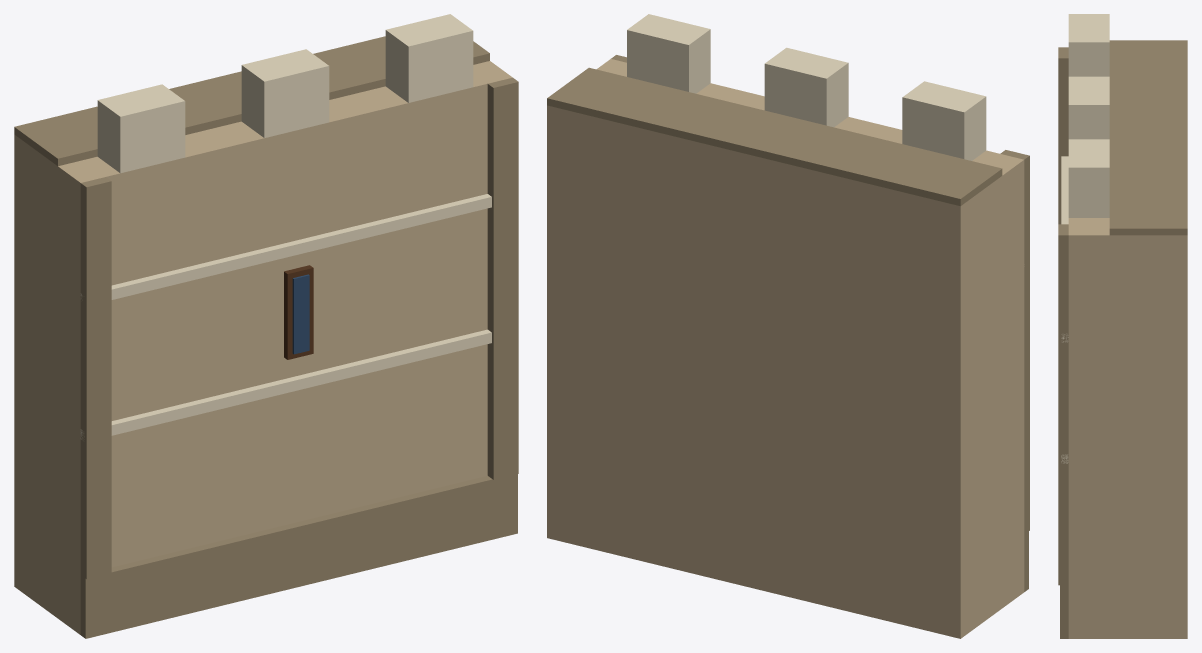
The model's file is Wall_Straight.fbx.
The picture shows the model from 3 angles, left to right: view 1: azimuth 30°, elevation 25°; view 2: azimuth 150°, elevation 25°; view 3: azimuth 270°, elevation 25°; orthographic projection. The views are drawn at different scales.
Parts seen in each view (by area): view 1: Wall_Straight; view 2: Wall_Straight; view 3: Wall_Straight.
Boxes of the visible parts, <box> form: Wall_Straight: <box>14,14,518,638</box>; Wall_Straight: <box>547,14,1029,638</box>; Wall_Straight: <box>1058,14,1187,638</box>.
Bounding box in the file's own units: 6 × 6.75 × 1.74.
